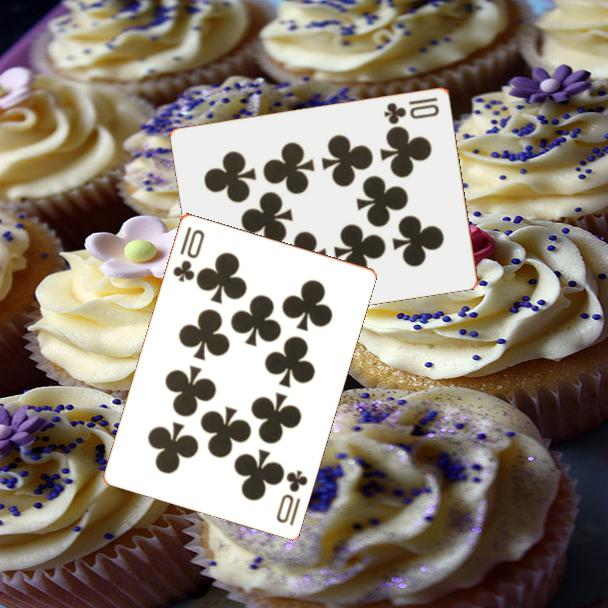c10: (169, 222, 207, 285), (272, 466, 310, 528), (380, 93, 442, 126)
